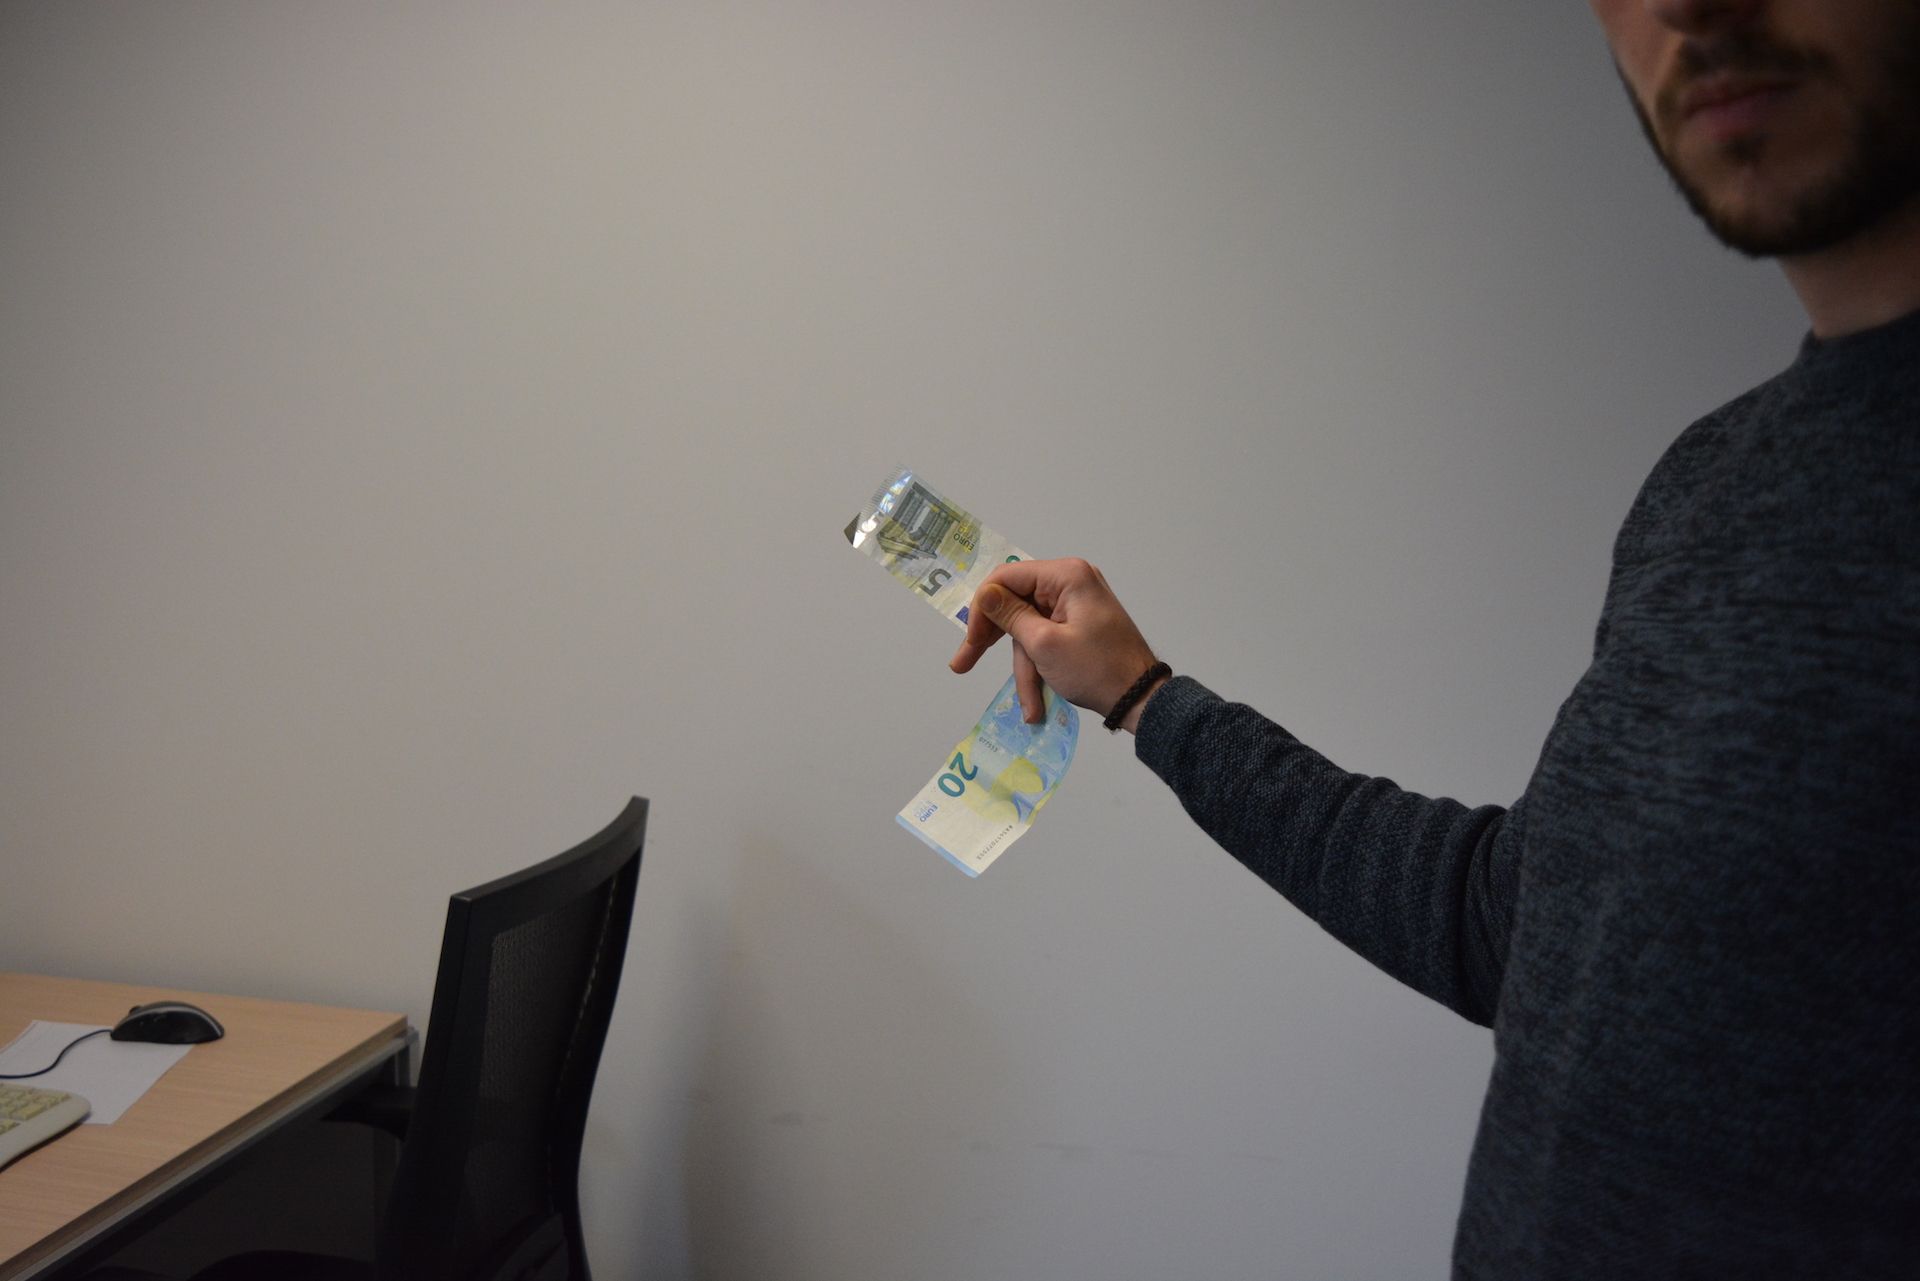billete: (894, 671, 1081, 881), (842, 460, 1039, 633)
